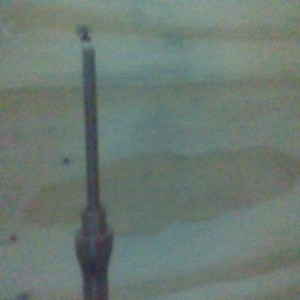obeng: (73, 46, 114, 300)
